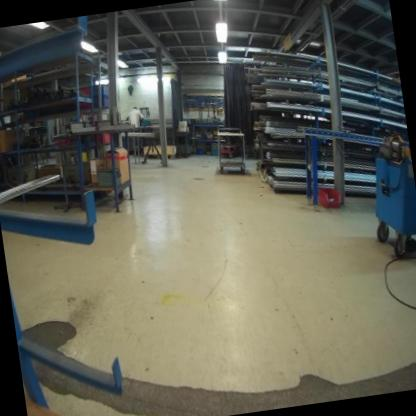pallet: (143, 149, 177, 164)
